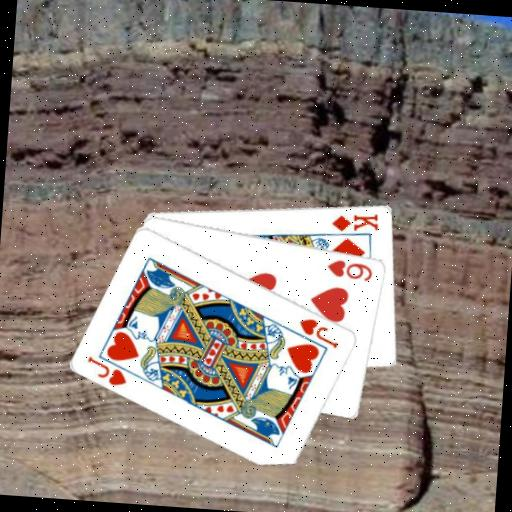6H: (324, 256, 376, 283)
JH: (83, 353, 130, 389), (296, 315, 342, 350)
KD: (328, 209, 381, 236)
